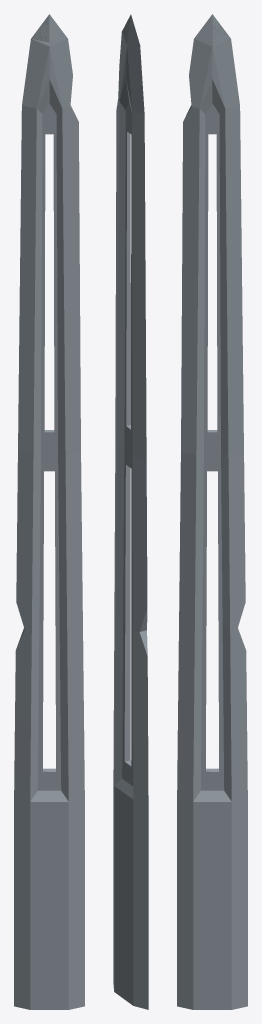
Rendered from kingdom_SM_Wep_Mod_Sword_Blade_02.gltf.
3 renders of one model, left to right at view 1: azimuth 90°, elevation 25°; view 2: azimuth 210°, elevation 25°; view 3: azimuth 270°, elevation 25°, orthographic.
Visible parts, largest first — view 1: SM_Wep_Mod_Sword_Blade_02; view 2: SM_Wep_Mod_Sword_Blade_02; view 3: SM_Wep_Mod_Sword_Blade_02.
Boxes of the visible parts, box(x1,y1,x2,y2) form: SM_Wep_Mod_Sword_Blade_02: box(14, 14, 84, 1009); SM_Wep_Mod_Sword_Blade_02: box(113, 14, 148, 1009); SM_Wep_Mod_Sword_Blade_02: box(177, 14, 247, 1009).
Bounding box in the file's own units: 0.0188 × 1.21 × 0.0785.
1 material, 1 textured.
